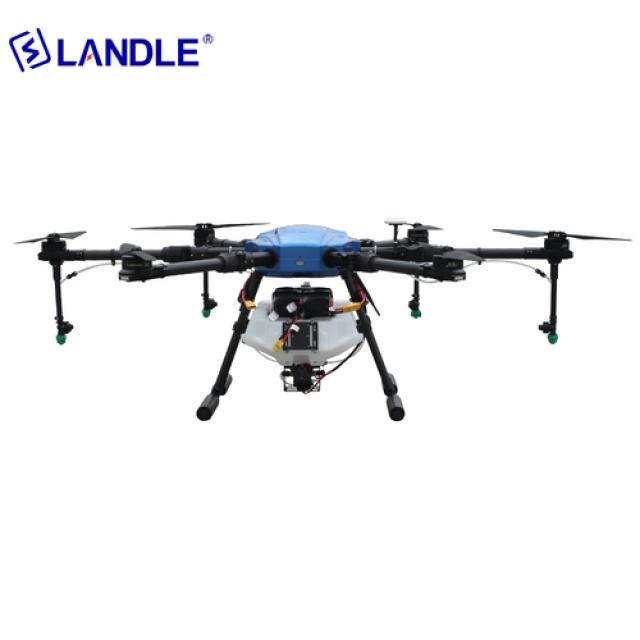drone: (10, 180, 640, 410)
